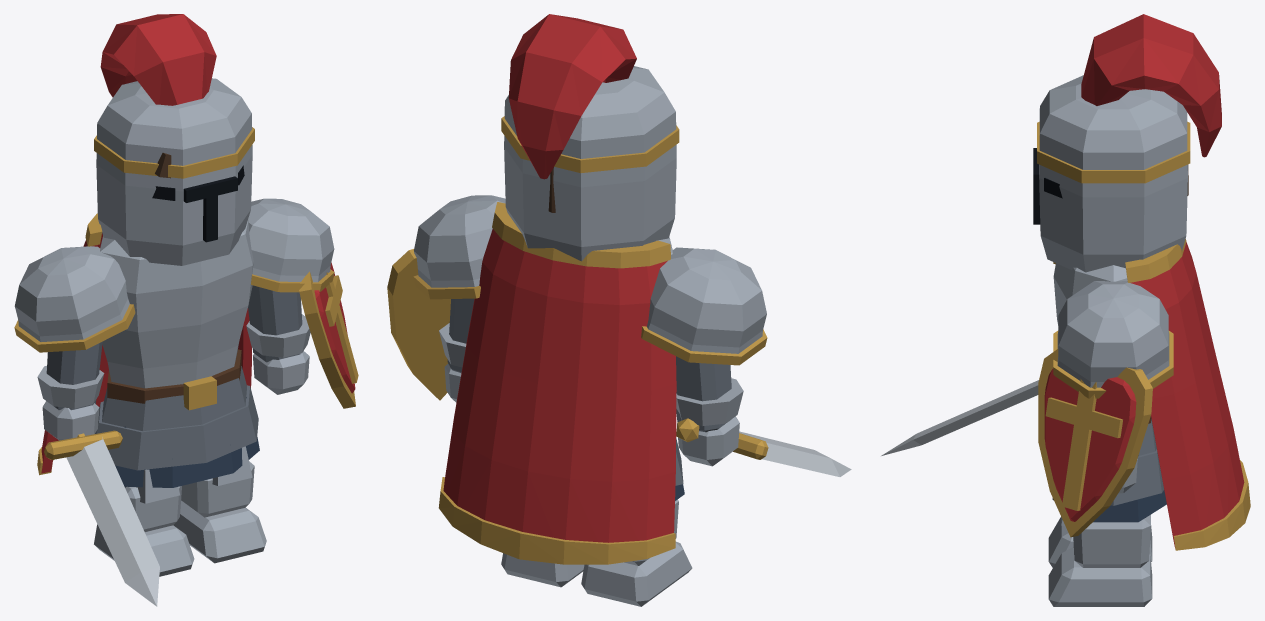
Rendered from Knight.fbx.
3 renders of one model, left to right at view 1: azimuth 30°, elevation 25°; view 2: azimuth 150°, elevation 25°; view 3: azimuth 270°, elevation 25°, orthographic. The views are drawn at different scales.
Visible parts, largest first — view 1: Helm, Torso, Faulds, RightArmPauldron, Plume, SwordBlade, LeftLegArmor, LeftArmPauldron, RightLegArmor, ShieldRim, RightArmGauntlet, LeftArmGauntlet (+12 smaller); view 2: Cape, Helm, Plume, RightArmPauldron, Trim, LeftArmPauldron, ShieldRim, RightLegArmor, RightArmGauntlet, HelmTrim, RightArm, SwordBlade (+6 smaller); view 3: Helm, Cape, Plume, LeftArmPauldron, LeftLegArmor, ShieldRim, Shield, Trim, HelmTrim, SwordBlade, Faulds, Torso (+4 smaller).
Boxes of the visible parts, <box> form: Helm: <box>96,78,252,265</box>; Torso: <box>100,216,253,388</box>; Faulds: <box>95,366,258,470</box>; RightArmPauldron: <box>14,246,129,341</box>; Plume: <box>100,14,216,105</box>; SwordBlade: <box>66,437,159,606</box>; LeftLegArmor: <box>173,446,266,563</box>; LeftArmPauldron: <box>248,198,334,282</box>; RightLegArmor: <box>94,469,194,576</box>; ShieldRim: <box>299,271,358,408</box>; RightArmGauntlet: <box>37,366,104,440</box>; LeftArmGauntlet: <box>246,314,310,394</box>; Cape: <box>443,229,676,542</box>; Helm: <box>504,66,676,261</box>; Plume: <box>508,14,636,179</box>; RightArmPauldron: <box>647,247,766,353</box>; Trim: <box>438,202,675,564</box>; LeftArmPauldron: <box>414,195,505,287</box>; ShieldRim: <box>387,249,450,400</box>; RightLegArmor: <box>581,499,692,606</box>; RightArmGauntlet: <box>676,378,743,466</box>; HelmTrim: <box>501,116,679,173</box>; RightArm: <box>676,356,731,432</box>; SwordBlade: <box>739,431,851,476</box>; Helm: <box>1039,75,1187,272</box>; Cape: <box>1130,242,1244,547</box>; Plume: <box>1081,14,1221,157</box>; LeftArmPauldron: <box>1057,281,1169,387</box>; LeftLegArmor: <box>1048,514,1152,606</box>; ShieldRim: <box>1038,349,1152,537</box>; Shield: <box>1044,369,1136,521</box>; Trim: <box>1125,239,1250,550</box>; HelmTrim: <box>1037,121,1190,183</box>; SwordBlade: <box>881,380,1038,455</box>; Faulds: <box>1111,419,1163,505</box>; Torso: <box>1053,263,1127,325</box>.
Size of the model in its own units: 4.64 by 7.08 by 4.33.
